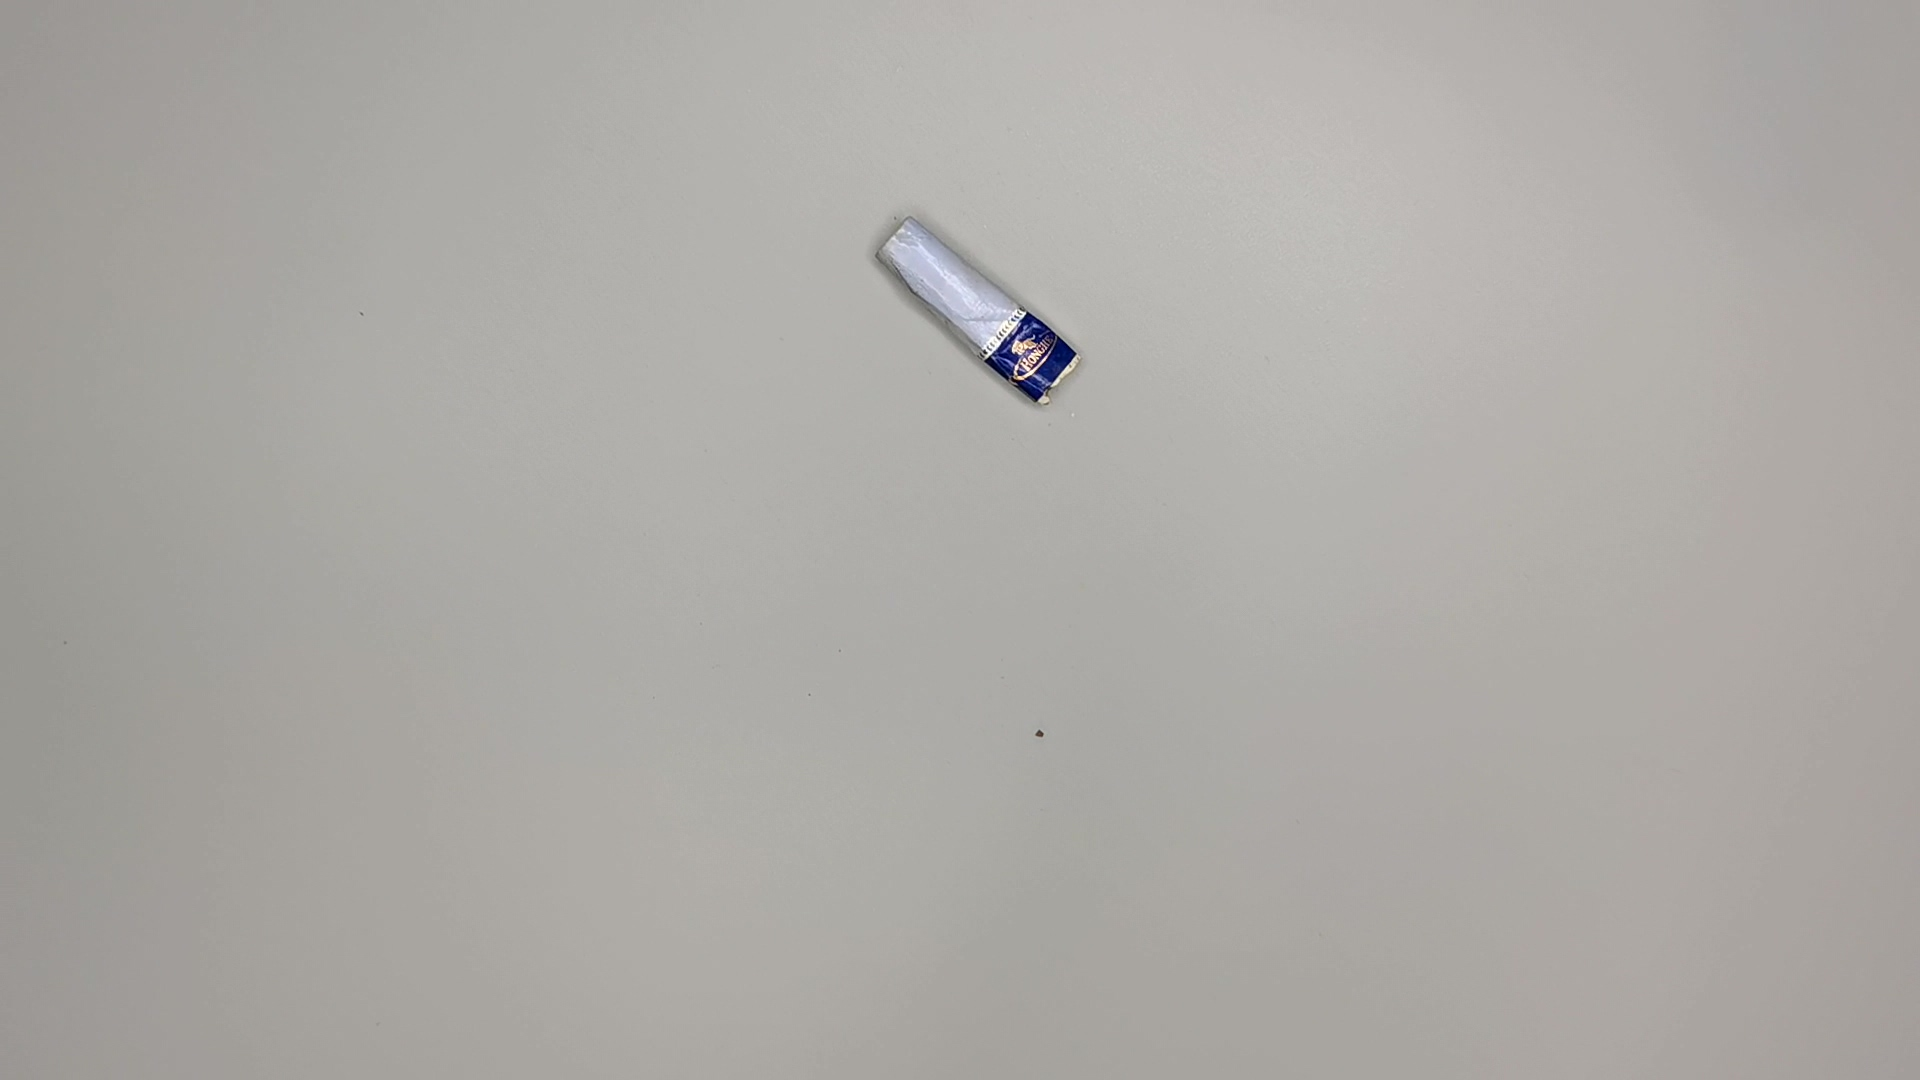cigarette: (864, 206, 1095, 417)
